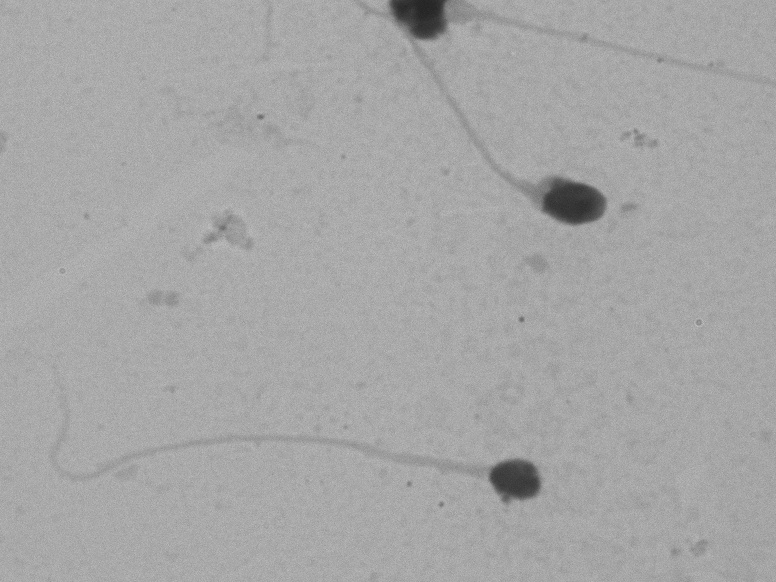Abnormal: (23, 340, 563, 520), (390, 35, 626, 290)
